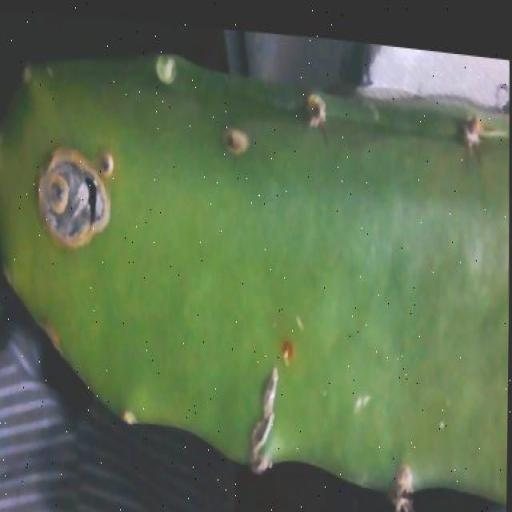stemcanker: (210, 371, 260, 415), (153, 436, 188, 476), (99, 346, 120, 376)
